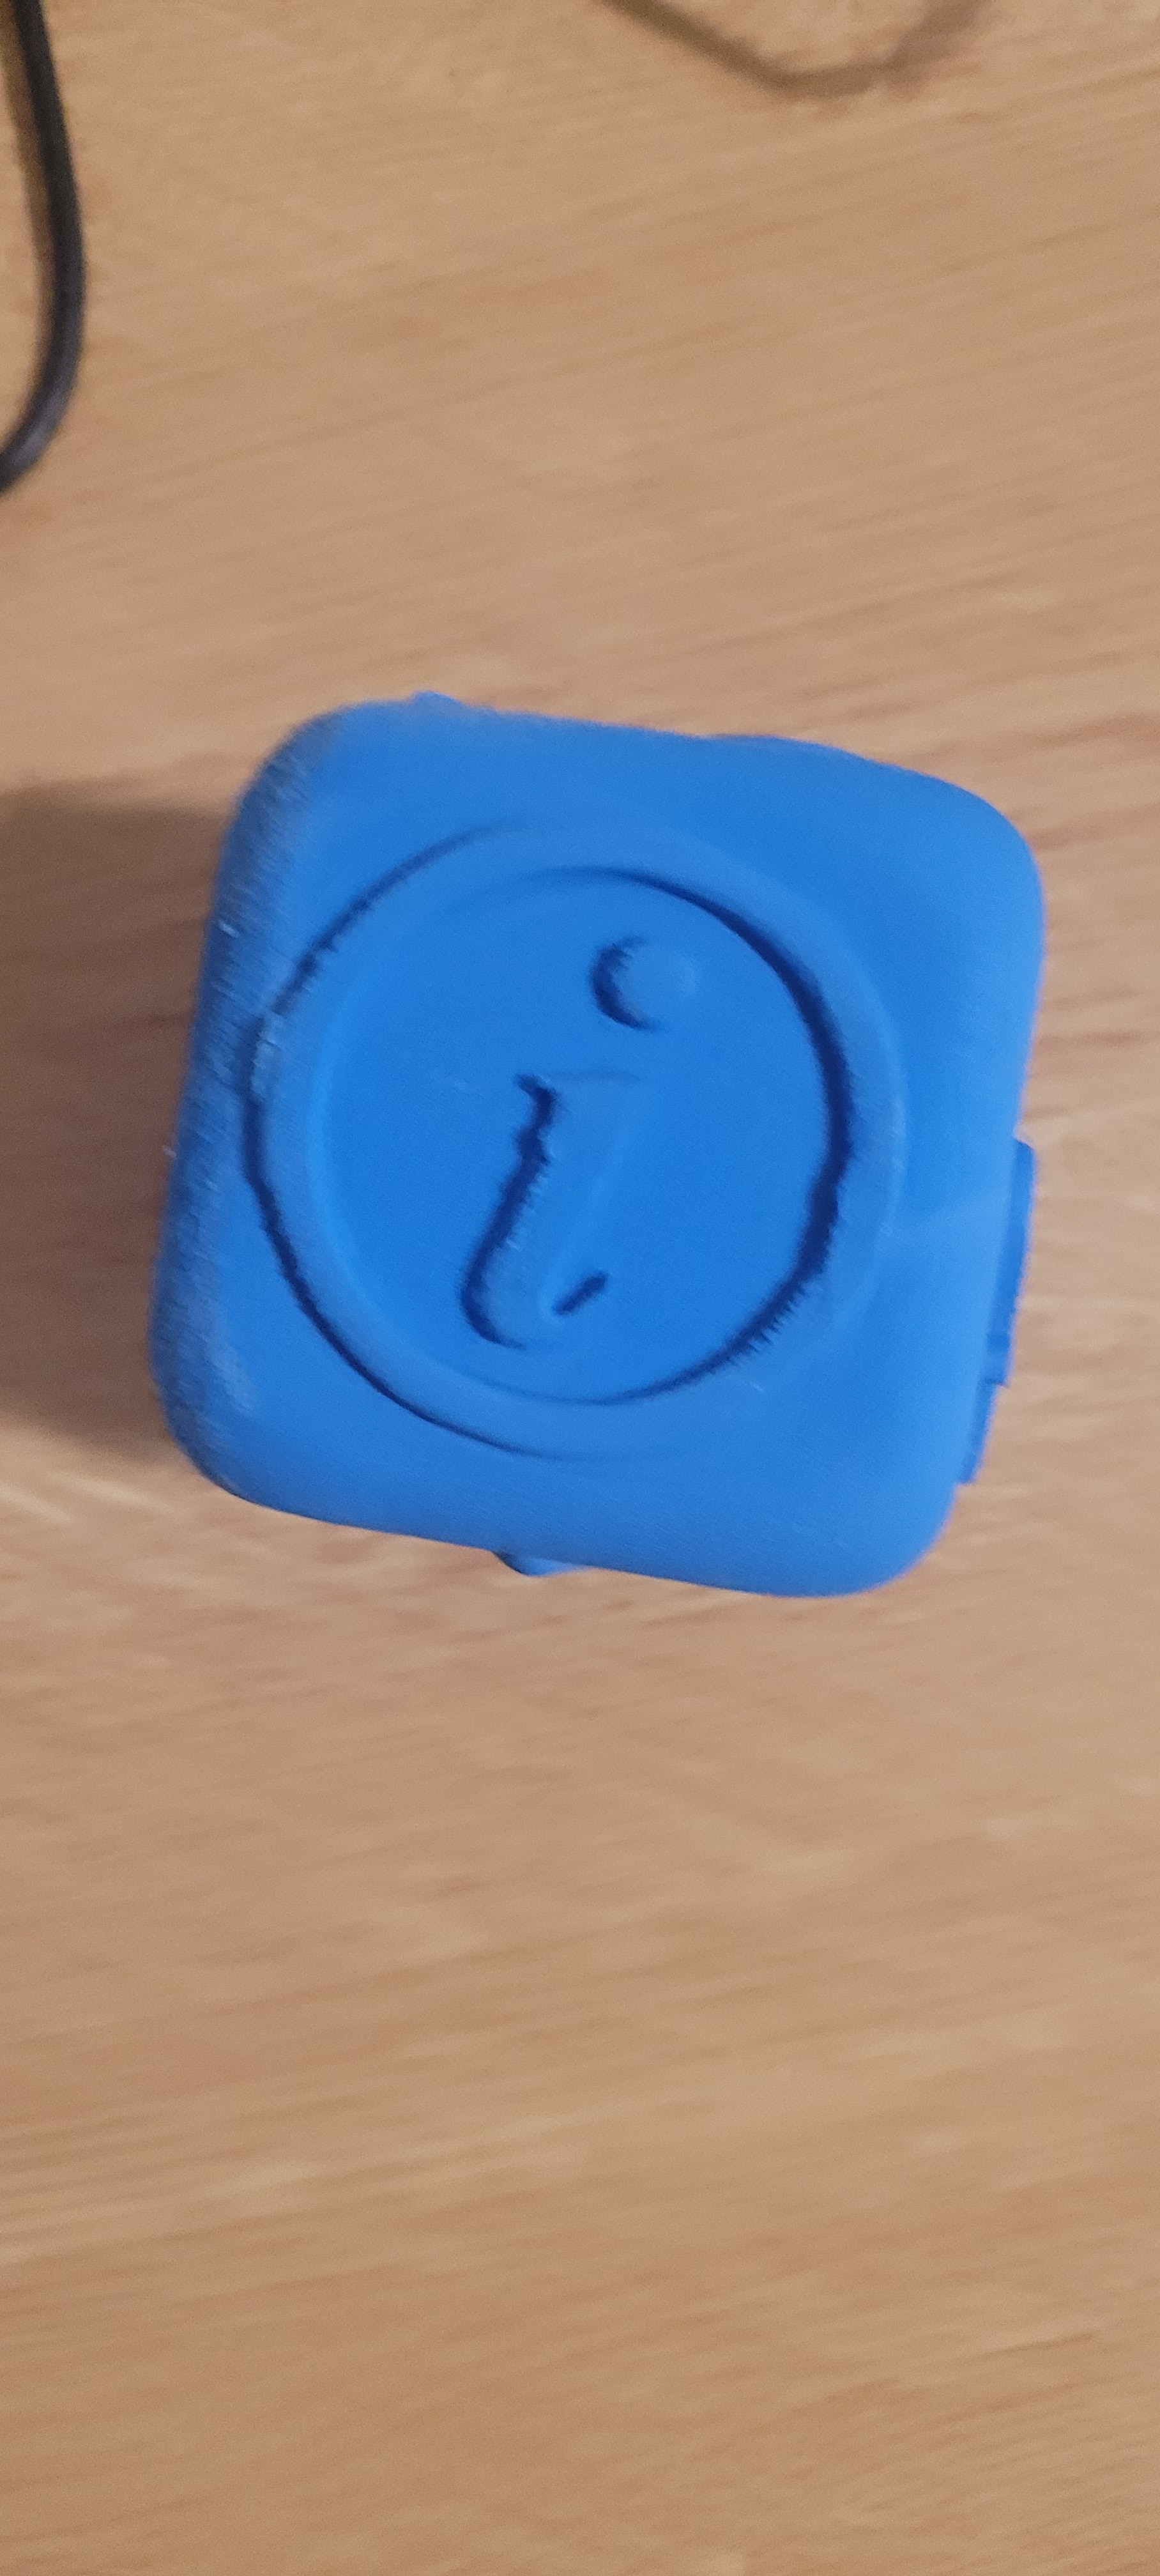Info: (235, 744, 907, 1434)
